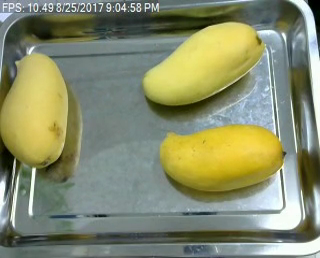Mango: (136, 19, 266, 108), (159, 122, 288, 195), (0, 51, 68, 171)
